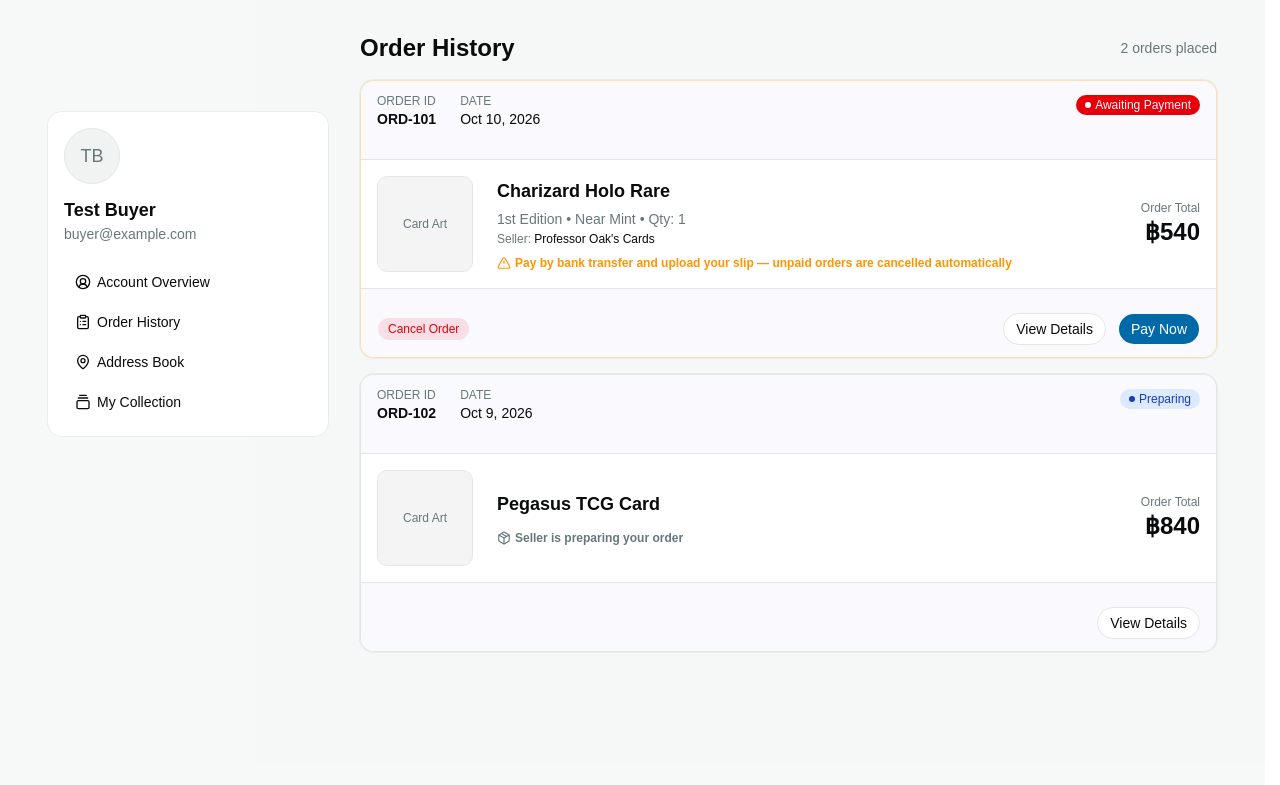
Test case: OrderHistoryPage › asks for the refund bank account right after cancelling, without a reload
What coordinates should you click on to do the following:
click the button "Cancel Order"
I would click on:
 (424, 329)
Its box is [377, 317, 470, 341].
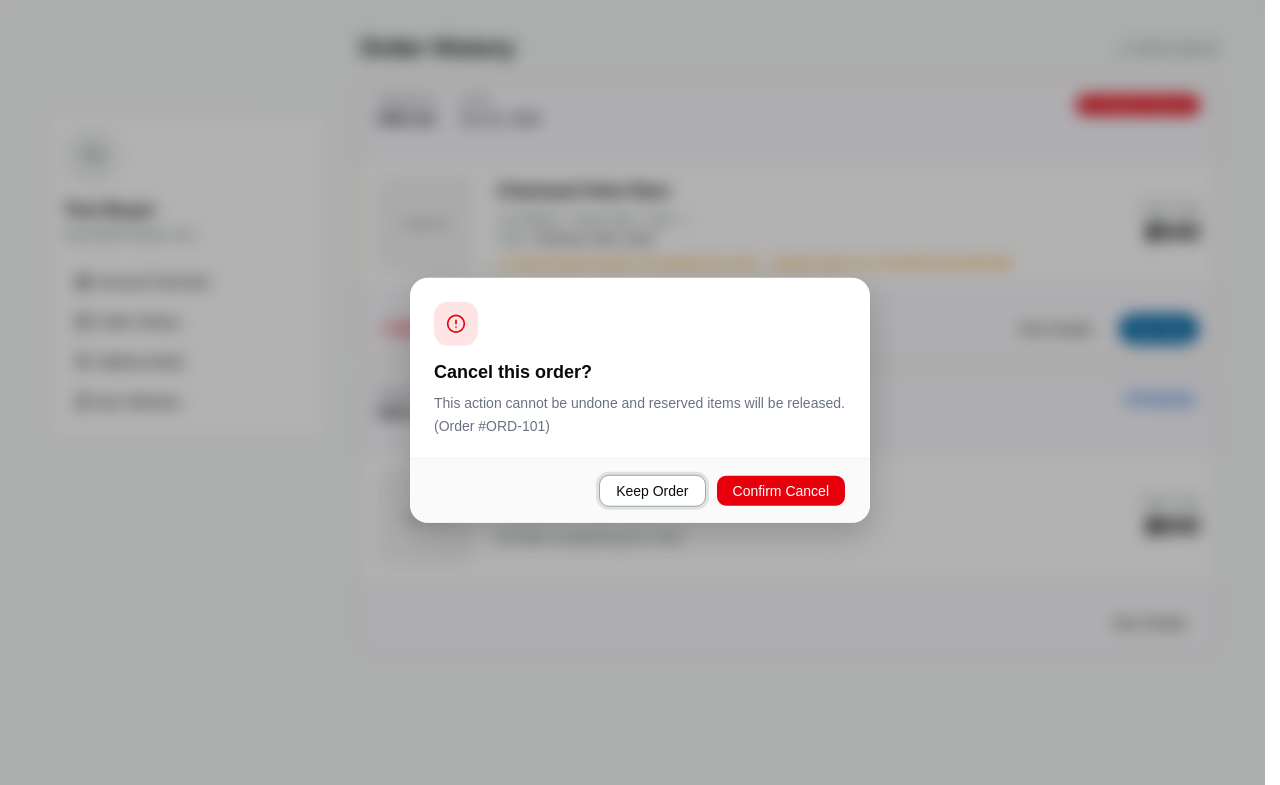
What coordinates should you click on to do the following:
click the button "Confirm Cancel"
I would click on:
 (781, 490)
Its box is [716, 474, 846, 506].
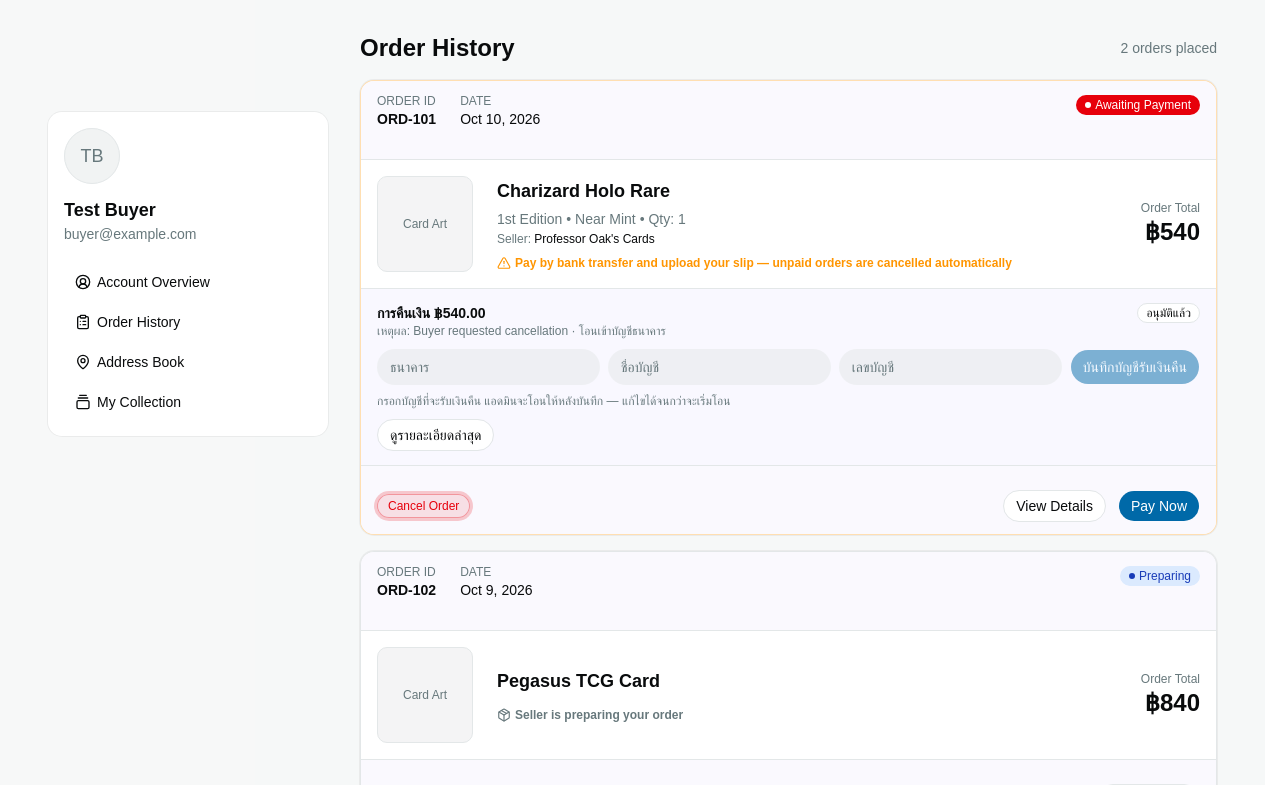
Expected: the field named "เลขบัญชีสำหรับคืนเงิน 11" is shown, [839, 349, 1062, 385]
